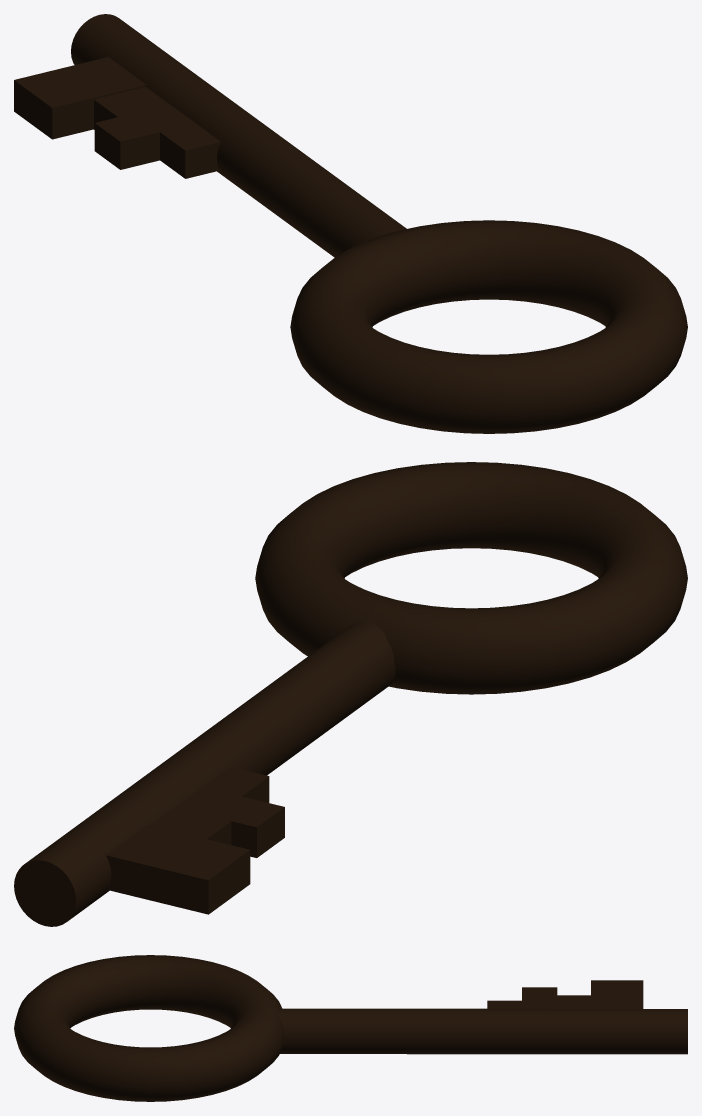
The model's file is kagi.obj.
3 views of the same model, one above another, from view 1: azimuth 30°, elevation 25°; view 2: azimuth 150°, elevation 25°; view 3: azimuth 270°, elevation 25° (orthographic). The views are drawn at different scales.
Visible parts, largest first — view 1: トーラス, 円柱.001, 立方体, 立方体.002, 立方体.003, 立方体.001; view 2: トーラス, 円柱.001, 立方体, 立方体.002, 立方体.001, 立方体.003; view 3: トーラス, 円柱.001, 立方体, 立方体.002, 立方体.001, 立方体.003.
Boxes of the visible parts, box(x1,y1,x2,y2) form: トーラス: box(290, 220, 687, 433); 円柱.001: box(71, 14, 406, 257); 立方体: box(14, 57, 146, 139); 立方体.002: box(94, 104, 195, 169); 立方体.003: box(160, 123, 220, 178); 立方体.001: box(94, 87, 169, 129); トーラス: box(255, 462, 687, 694); 円柱.001: box(14, 622, 395, 926); 立方体: box(106, 825, 250, 914); 立方体.002: box(175, 787, 284, 857); 立方体.001: box(150, 807, 231, 844); 立方体.003: box(203, 766, 269, 802); トーラス: box(14, 955, 284, 1101); 円柱.001: box(277, 1008, 687, 1054); 立方体: box(591, 980, 643, 1008); 立方体.002: box(522, 987, 557, 1008); 立方体.001: box(557, 995, 590, 1008); 立方体.003: box(487, 1000, 522, 1008).
Size of the model in its own units: 0.5483 by 0.1097 by 1.35.
